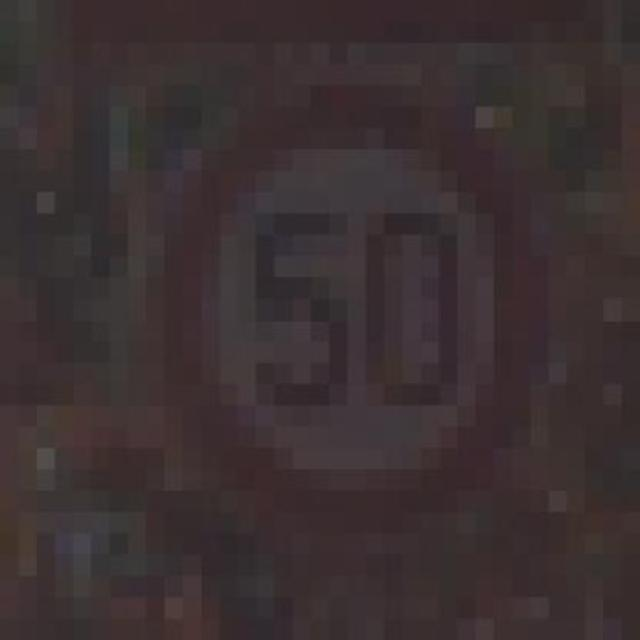50 mph speed limit: (112, 62, 588, 530)
